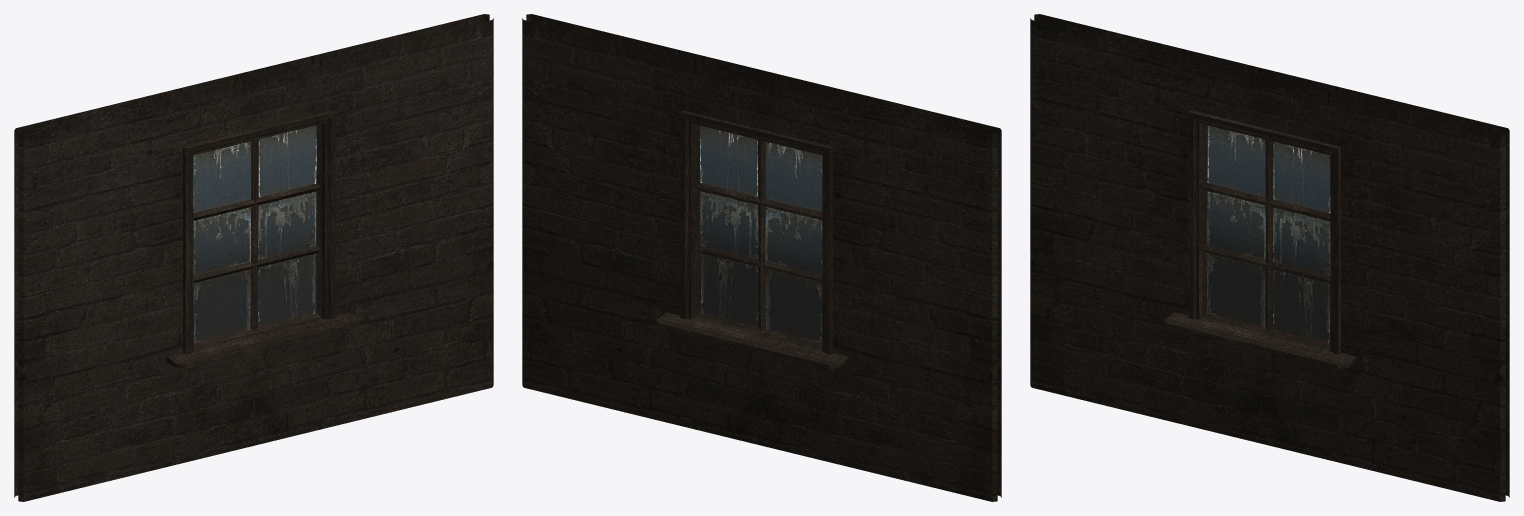
The model's file is window_1_single.glb.
3 renders of one model, left to right at view 1: azimuth 30°, elevation 25°; view 2: azimuth 150°, elevation 25°; view 3: azimuth 330°, elevation 25°, orthographic.
Parts seen in each view (by area): view 1: window_1_single; view 2: window_1_single; view 3: window_1_single.
Part boxes in pixels (x1,y1,x2,y2): window_1_single: (14,14,493,501); window_1_single: (522,14,1001,501); window_1_single: (1030,14,1509,501).
Bounding box in the file's own units: 4.06 × 3 × 0.52.
3 materials, 3 textured.
